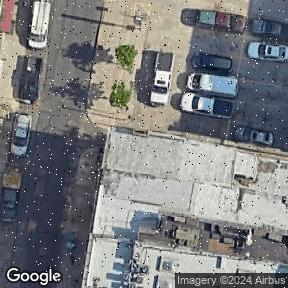vegetation: (110, 40, 139, 71), (109, 80, 133, 109)
